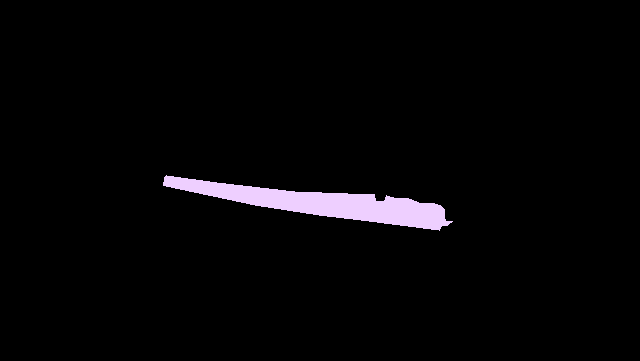Train: (163, 175, 452, 231)
